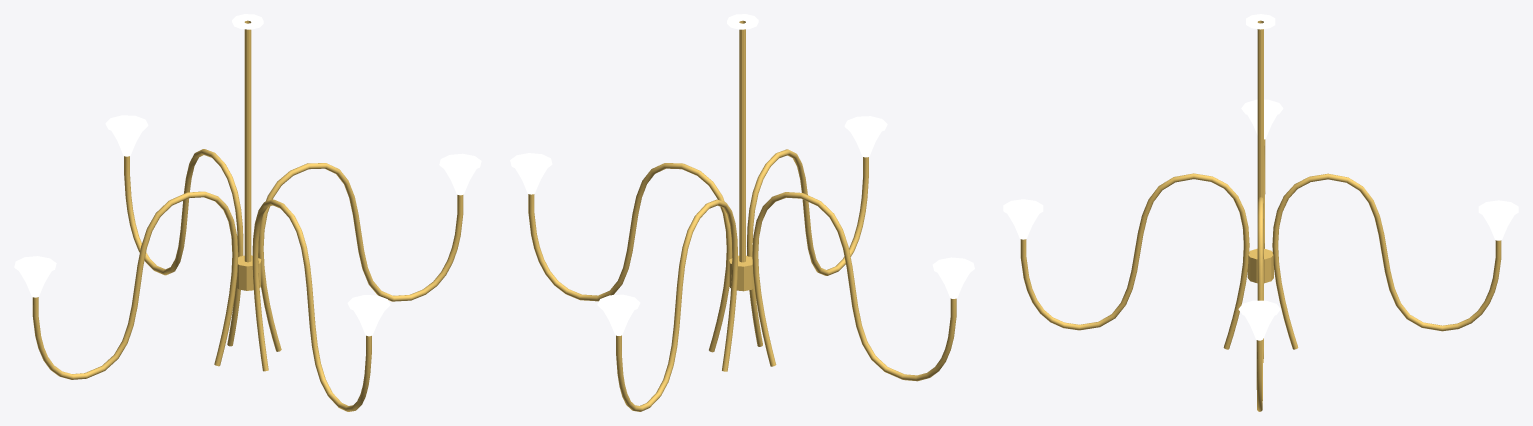
Rendered from ELT0110050.fbx.
3 renders of one model, left to right at view 1: azimuth 30°, elevation 25°; view 2: azimuth 150°, elevation 25°; view 3: azimuth 270°, elevation 25°, orthographic. The views are drawn at different scales.
Visible parts, largest first — view 1: smELT0110050; view 2: smELT0110050; view 3: smELT0110050.
Part boxes in pixels (<box>): smELT0110050: <box>14,14,481,411</box>; smELT0110050: <box>510,14,974,411</box>; smELT0110050: <box>1003,14,1518,411</box>.
Size of the model in its own units: 174 by 122 by 174.
1 material, 1 textured.
